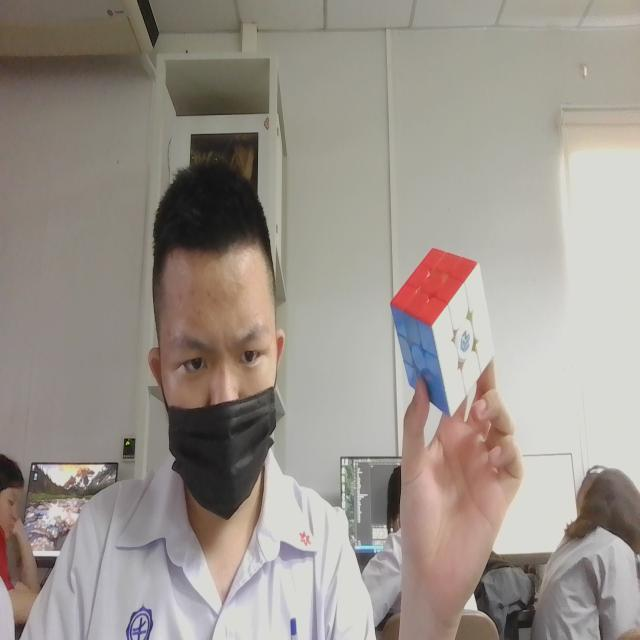rubik: (375, 223, 502, 419)
